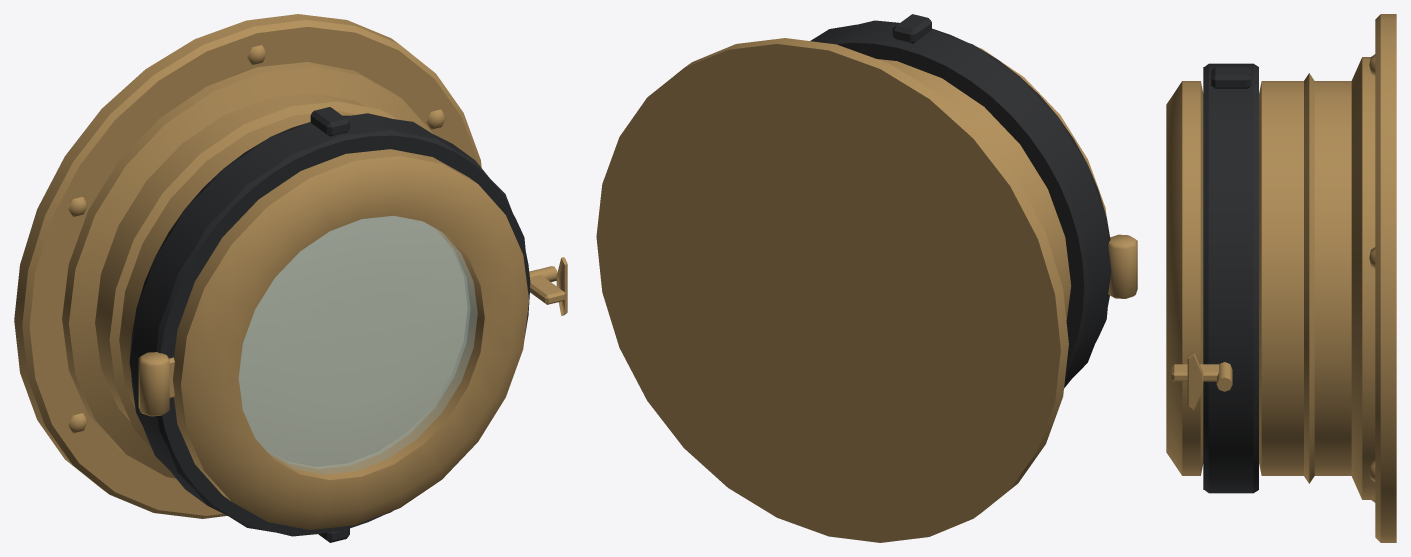
File: inspection_port.glb
The picture shows the model from 3 angles, left to right: view 1: azimuth 30°, elevation 25°; view 2: azimuth 150°, elevation 25°; view 3: azimuth 270°, elevation 25°; orthographic projection.
Visible parts, largest first — view 1: inspection_port, IA_port_lens, IA_port_ring; view 2: inspection_port, IA_port_ring; view 3: inspection_port, IA_port_ring.
Part boxes in pixels (<box>): inspection_port: <box>14,14,567,529</box>; IA_port_lens: <box>238,215,477,474</box>; IA_port_ring: <box>129,107,530,542</box>; inspection_port: <box>596,38,1137,542</box>; IA_port_ring: <box>810,14,1111,388</box>; inspection_port: <box>1166,14,1396,542</box>; IA_port_ring: <box>1203,63,1258,493</box>.
Bounding box in the file's own units: 0.4 × 0.4 × 0.174.
